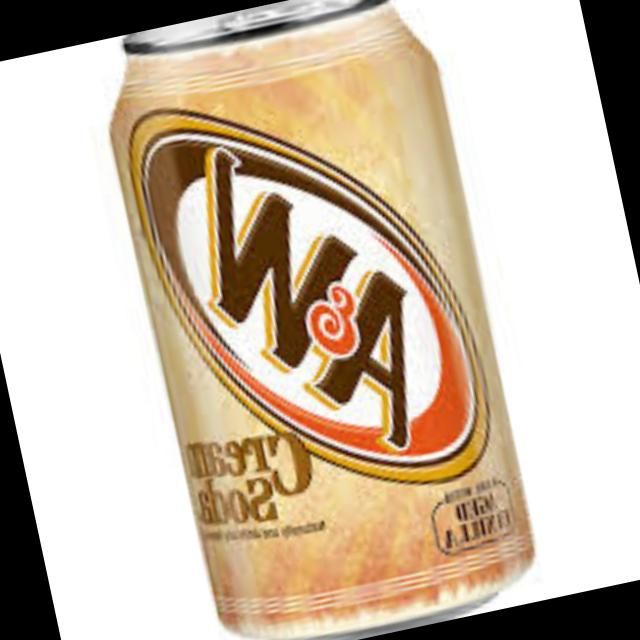metal: (115, 0, 536, 632)
